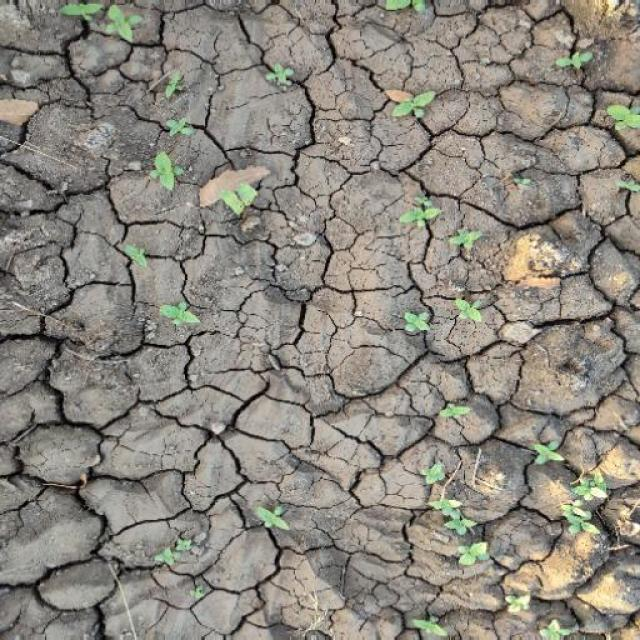crop: (421, 463, 495, 575), (537, 445, 615, 537), (402, 188, 482, 262), (44, 1, 160, 51), (122, 111, 188, 192), (403, 285, 488, 344), (374, 80, 438, 125), (154, 300, 204, 330), (255, 500, 295, 534)
